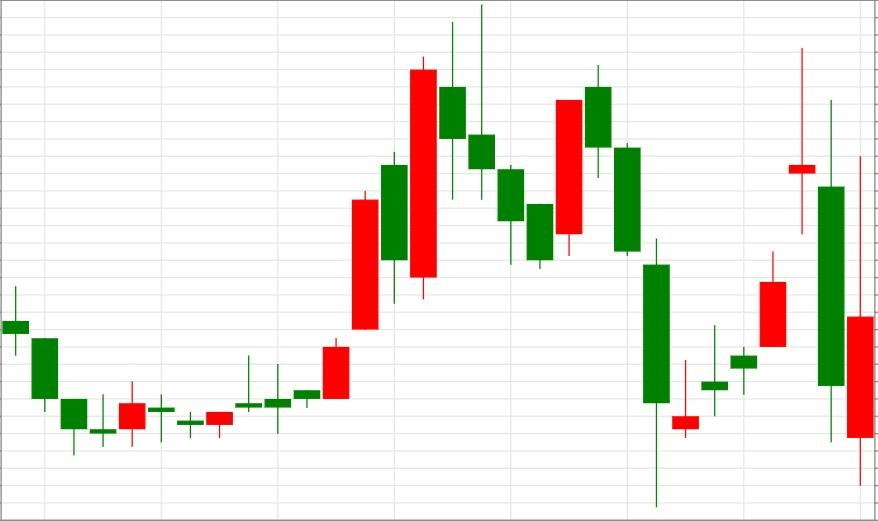three_black_crows_fall: (177, 4, 526, 437), (526, 64, 671, 506)
